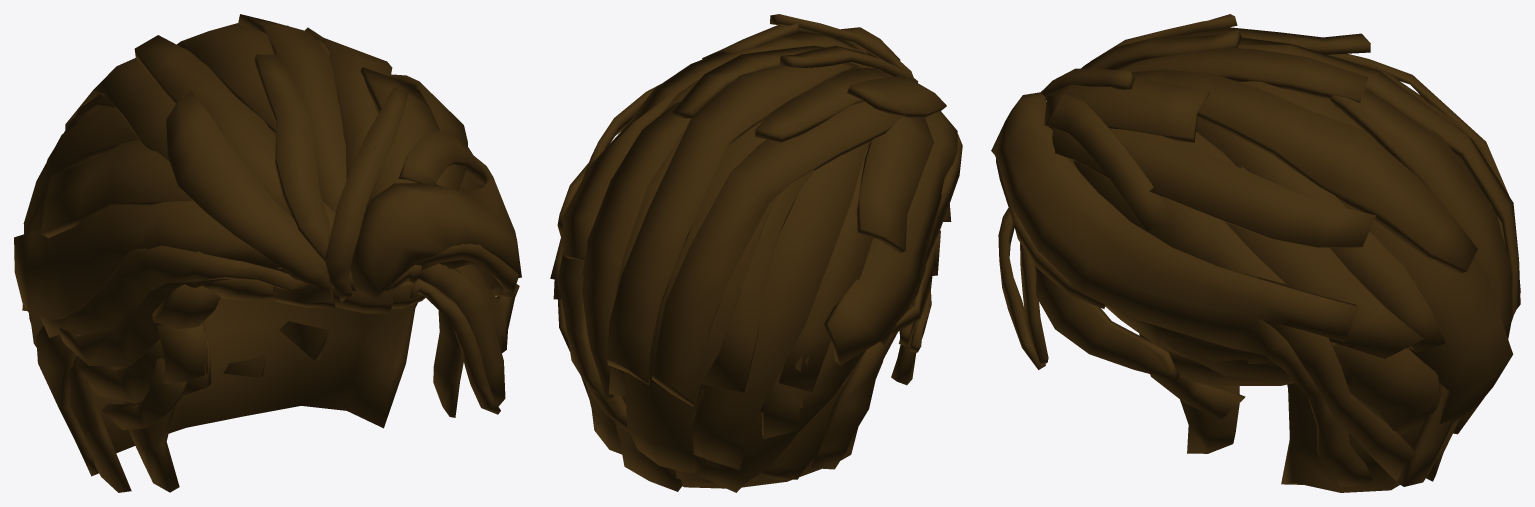
Rendered from mh_culturalibre_hair_05.glb.
3 views of the same model, side by side, from view 1: azimuth 30°, elevation 25°; view 2: azimuth 150°, elevation 25°; view 3: azimuth 270°, elevation 25° (orthographic). The views are drawn at different scales.
Visible parts, largest first — view 1: mh_culturalibre_hair_05; view 2: mh_culturalibre_hair_05; view 3: mh_culturalibre_hair_05.
Part boxes in pixels (bbox=[...]): mh_culturalibre_hair_05: bbox=[14, 14, 521, 492]; mh_culturalibre_hair_05: bbox=[550, 14, 962, 492]; mh_culturalibre_hair_05: bbox=[991, 14, 1520, 492].
Bounding box in the file's own units: 0.2029 × 0.2144 × 0.2469.
Materials: 1 (1 with a texture image).
